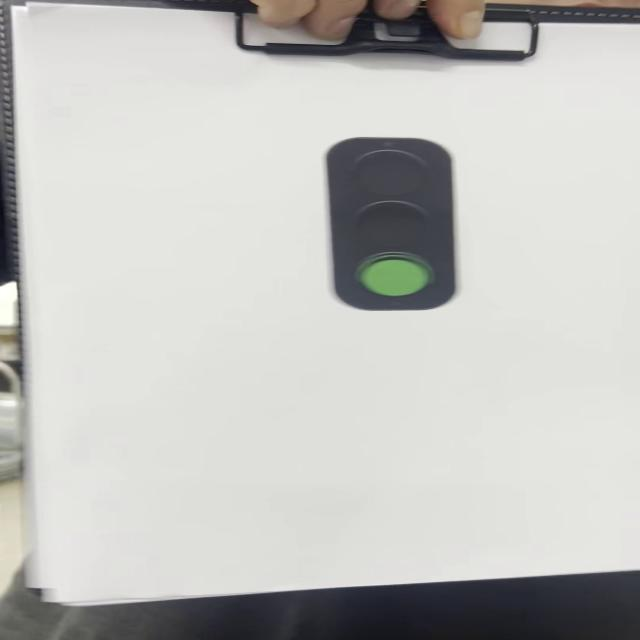green: (327, 135, 463, 310)
